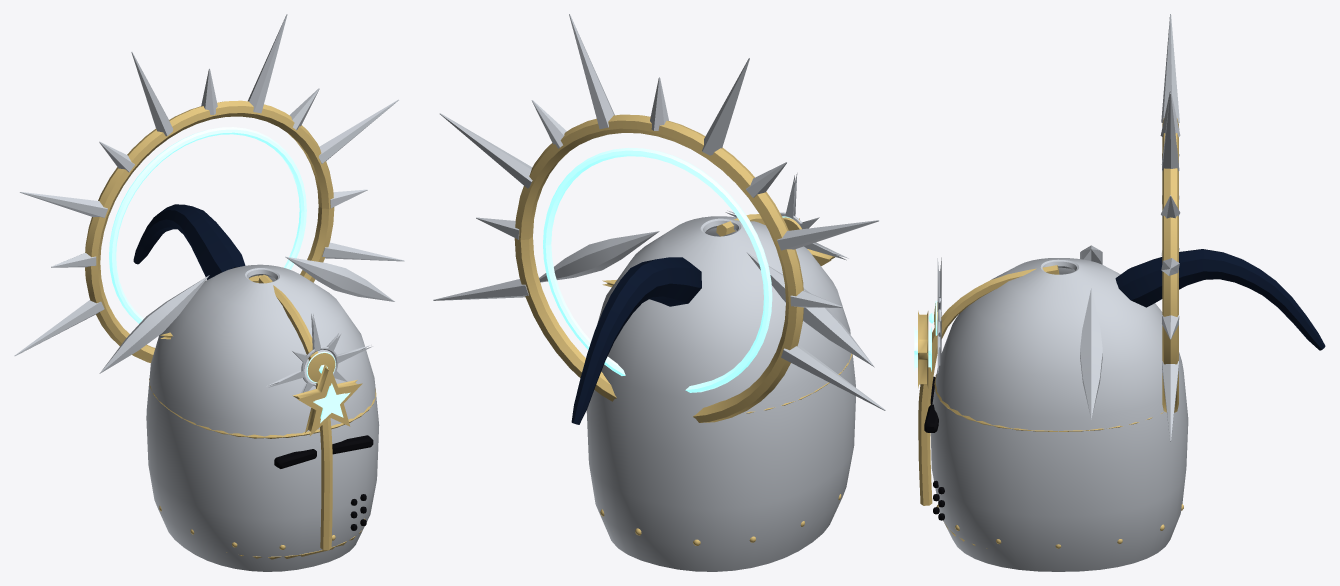
Rendered from esc_last_crown_marshal_helm.glb.
3 renders of one model, left to right at view 1: azimuth 30°, elevation 25°; view 2: azimuth 150°, elevation 25°; view 3: azimuth 270°, elevation 25°, orthographic. The views are drawn at different scales.
Parts seen in each view (by area): view 1: esc_last_crown_marshal_helm; view 2: esc_last_crown_marshal_helm; view 3: esc_last_crown_marshal_helm.
Boxes of the visible parts, <box> form: esc_last_crown_marshal_helm: <box>14,14,404,571</box>; esc_last_crown_marshal_helm: <box>433,14,885,571</box>; esc_last_crown_marshal_helm: <box>914,14,1325,571</box>.
Size of the model in its own units: 0.7147 by 0.8015 by 0.6231.
